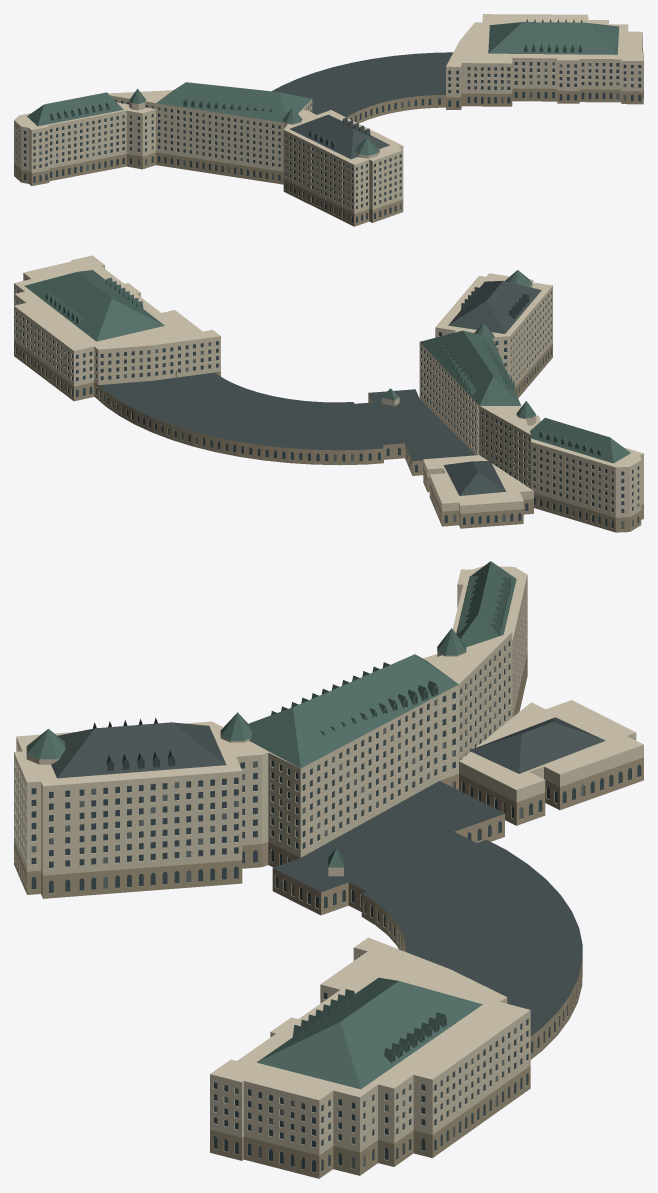
Rendered from fairmont-chateau-lake-louise-near.glb.
3 renders of one model, top to bottom at view 1: azimuth 30°, elevation 25°; view 2: azimuth 150°, elevation 25°; view 3: azimuth 270°, elevation 25°, orthographic. The views are drawn at different scales.
Parts seen in each view (by area): view 1: fairmont-chateau-lake-louise-0-stone, fairmont-chateau-lake-louise-0-copper, fairmont-chateau-lake-louise-0-roof, fairmont-chateau-lake-louise-0-base, fairmont-chateau-lake-louise-0-glass, fairmont-chateau-lake-louise-0-glow; view 2: fairmont-chateau-lake-louise-0-stone, fairmont-chateau-lake-louise-0-roof, fairmont-chateau-lake-louise-0-copper, fairmont-chateau-lake-louise-0-base, fairmont-chateau-lake-louise-0-glass, fairmont-chateau-lake-louise-0-glow; view 3: fairmont-chateau-lake-louise-0-stone, fairmont-chateau-lake-louise-0-roof, fairmont-chateau-lake-louise-0-copper, fairmont-chateau-lake-louise-0-base, fairmont-chateau-lake-louise-0-glass, fairmont-chateau-lake-louise-0-glow.
Part boxes in pixels (x1,y1,x2,y2): fairmont-chateau-lake-louise-0-stone: [14, 14, 643, 213]; fairmont-chateau-lake-louise-0-copper: [27, 19, 619, 155]; fairmont-chateau-lake-louise-0-roof: [272, 52, 453, 159]; fairmont-chateau-lake-louise-0-base: [14, 86, 643, 226]; fairmont-chateau-lake-louise-0-glass: [15, 48, 641, 222]; fairmont-chateau-lake-louise-0-glow: [15, 62, 641, 213]; fairmont-chateau-lake-louise-0-stone: [14, 255, 643, 517]; fairmont-chateau-lake-louise-0-roof: [98, 280, 541, 495]; fairmont-chateau-lake-louise-0-copper: [24, 270, 630, 463]; fairmont-chateau-lake-louise-0-base: [14, 341, 643, 532]; fairmont-chateau-lake-louise-0-glass: [15, 279, 638, 528]; fairmont-chateau-lake-louise-0-glow: [27, 306, 638, 528]; fairmont-chateau-lake-louise-0-stone: [14, 566, 643, 1155]; fairmont-chateau-lake-louise-0-roof: [51, 717, 605, 1036]; fairmont-chateau-lake-louise-0-copper: [26, 561, 516, 1089]; fairmont-chateau-lake-louise-0-base: [14, 653, 643, 1178]; fairmont-chateau-lake-louise-0-glass: [31, 619, 640, 1172]; fairmont-chateau-lake-louise-0-glow: [31, 646, 584, 1168].
Bounding box in the file's own units: 307 × 40 × 160.
